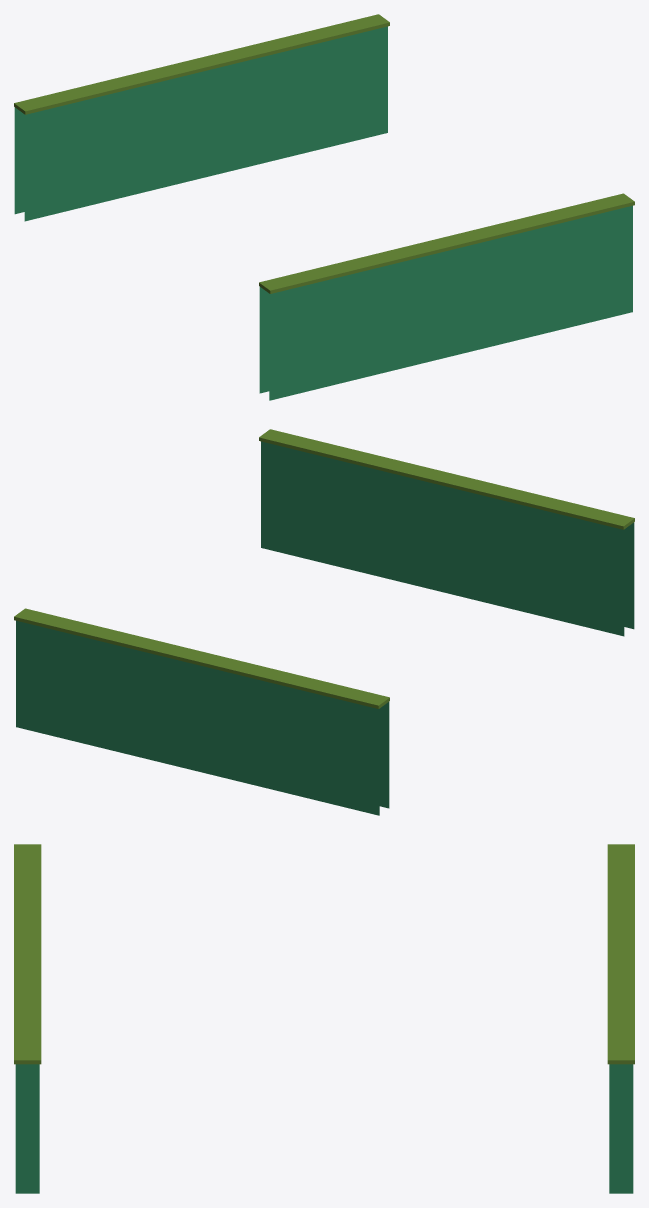
Rendered from mcp_building_22_concrete.FBX.
3 renders of one model, top to bottom at view 1: azimuth 30°, elevation 25°; view 2: azimuth 150°, elevation 25°; view 3: azimuth 270°, elevation 25°, orthographic. The views are drawn at different scales.
Visible parts, largest first — view 1: mcp_building_22_concrete_01; view 2: mcp_building_22_concrete_01; view 3: mcp_building_22_concrete_01.
Part boxes in pixels (box(x1,y1,x2,y2)): mcp_building_22_concrete_01: box(14, 14, 634, 400); mcp_building_22_concrete_01: box(14, 429, 634, 815); mcp_building_22_concrete_01: box(14, 844, 634, 1193).
Bounding box in the file's own units: 855 × 248 × 1040.
